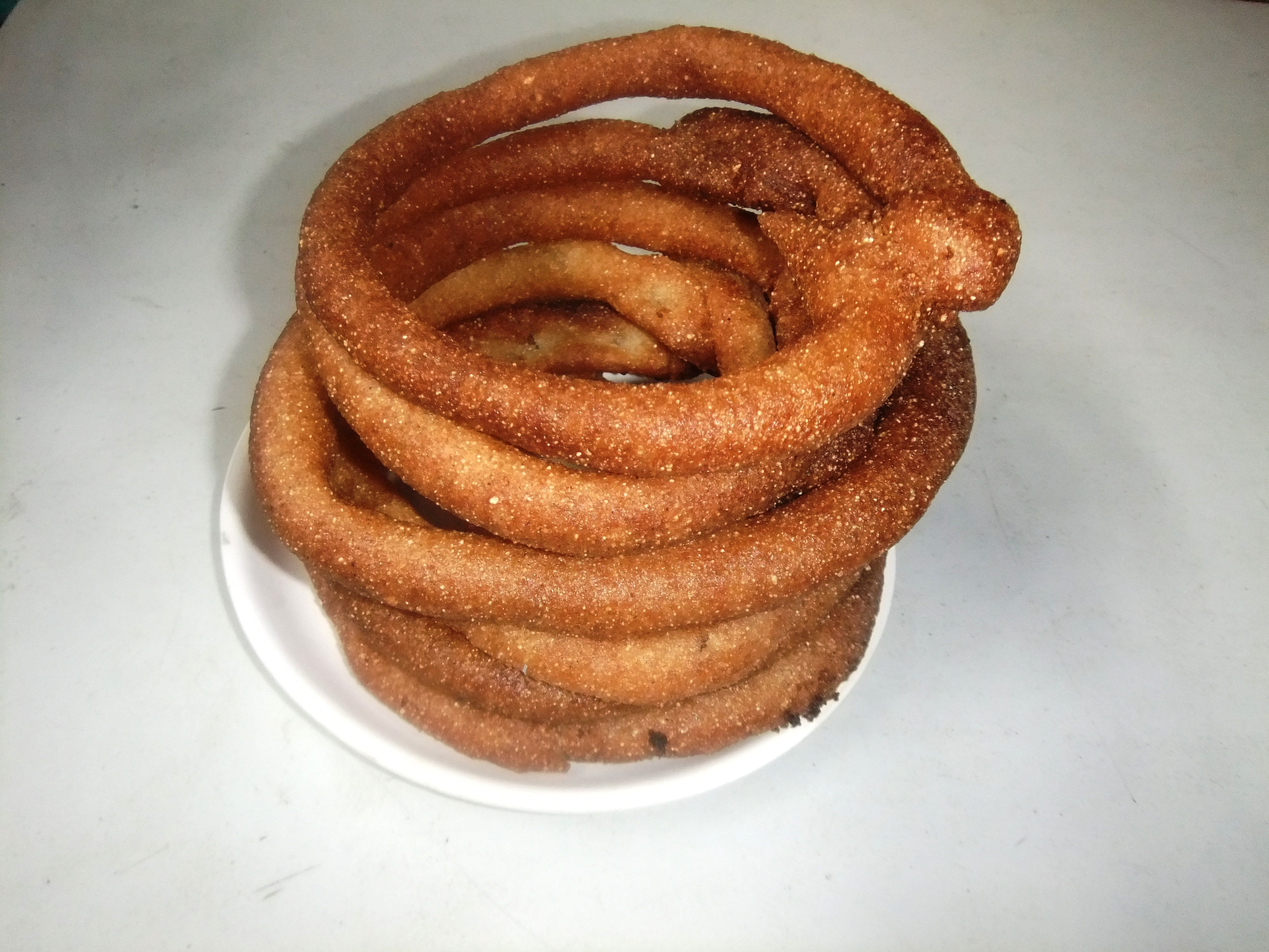sel_roti: (308, 22, 1025, 466), (263, 546, 987, 651), (311, 660, 907, 765)
